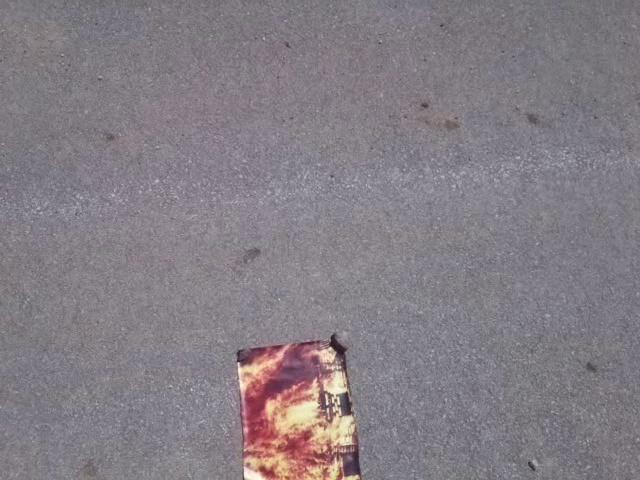fire-poster: (233, 332, 365, 479)
